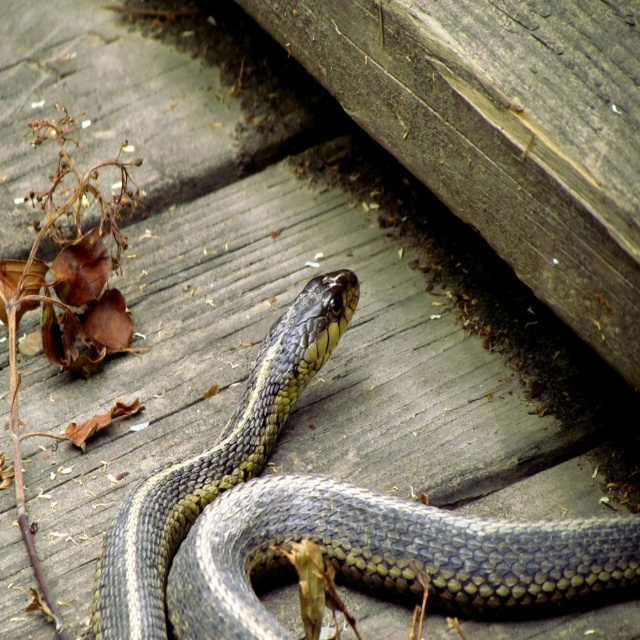Snake: (91, 267, 640, 639)
